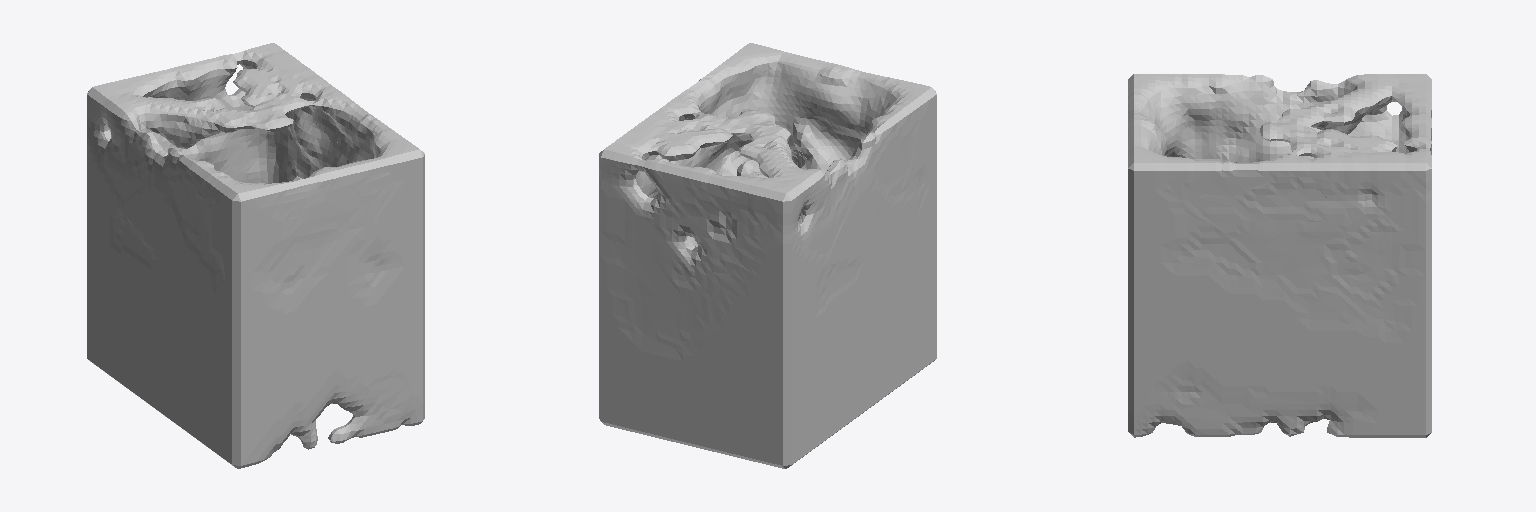
3 renders of one model, left to right at view 1: azimuth 30°, elevation 25°; view 2: azimuth 150°, elevation 25°; view 3: azimuth 270°, elevation 25°, orthographic.
Visible parts, largest first — view 1: Liquid_Domain; view 2: Liquid_Domain; view 3: Liquid_Domain.
Part boxes in pixels (bbox=[...]): Liquid_Domain: bbox=[87, 43, 424, 468]; Liquid_Domain: bbox=[599, 43, 936, 468]; Liquid_Domain: bbox=[1128, 74, 1431, 437].
Size of the model in its own units: 79.09 by 108 by 108.